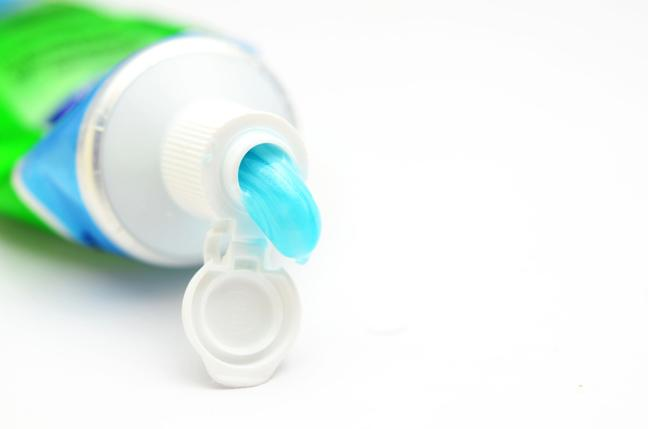toothpaste: (0, 0, 348, 282)
